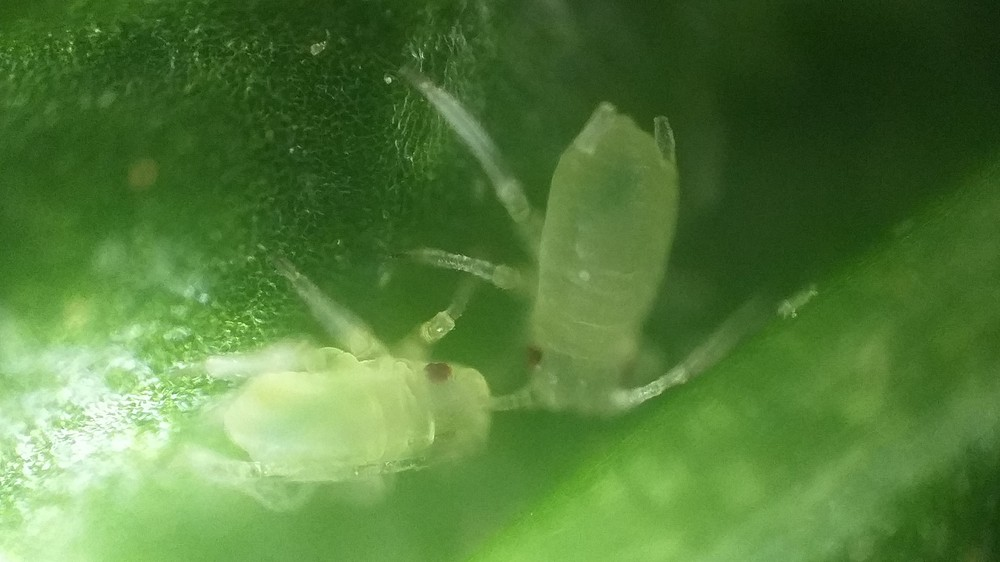Pulgon: (417, 83, 788, 464), (188, 270, 526, 535)
